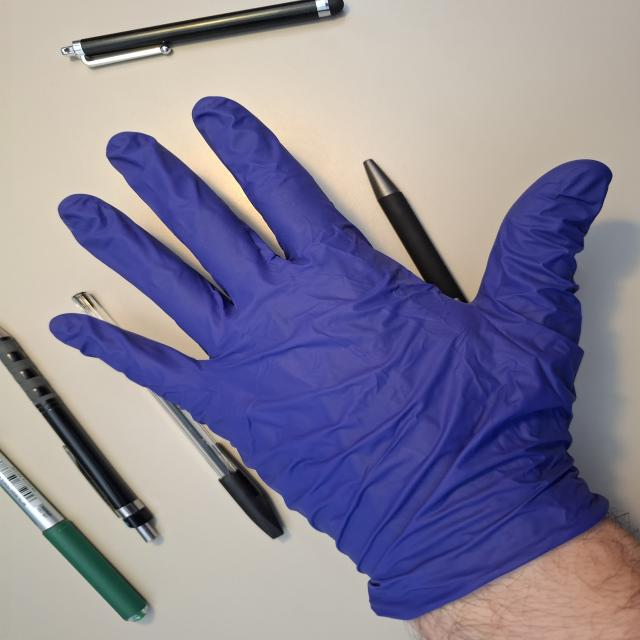glove_on: (48, 95, 615, 597)
